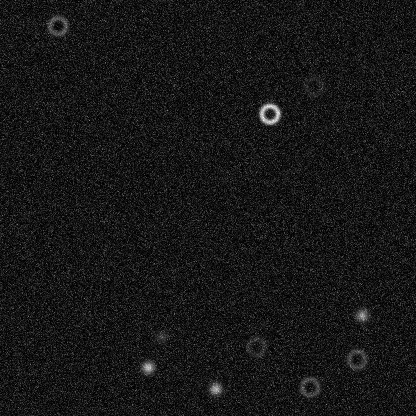Ring: (297, 375, 321, 399), (45, 13, 69, 37), (302, 74, 326, 98), (244, 334, 268, 358), (344, 347, 368, 371), (257, 101, 281, 125)
Spot: (139, 359, 155, 375), (353, 307, 369, 323), (153, 328, 169, 344), (207, 380, 223, 396)
